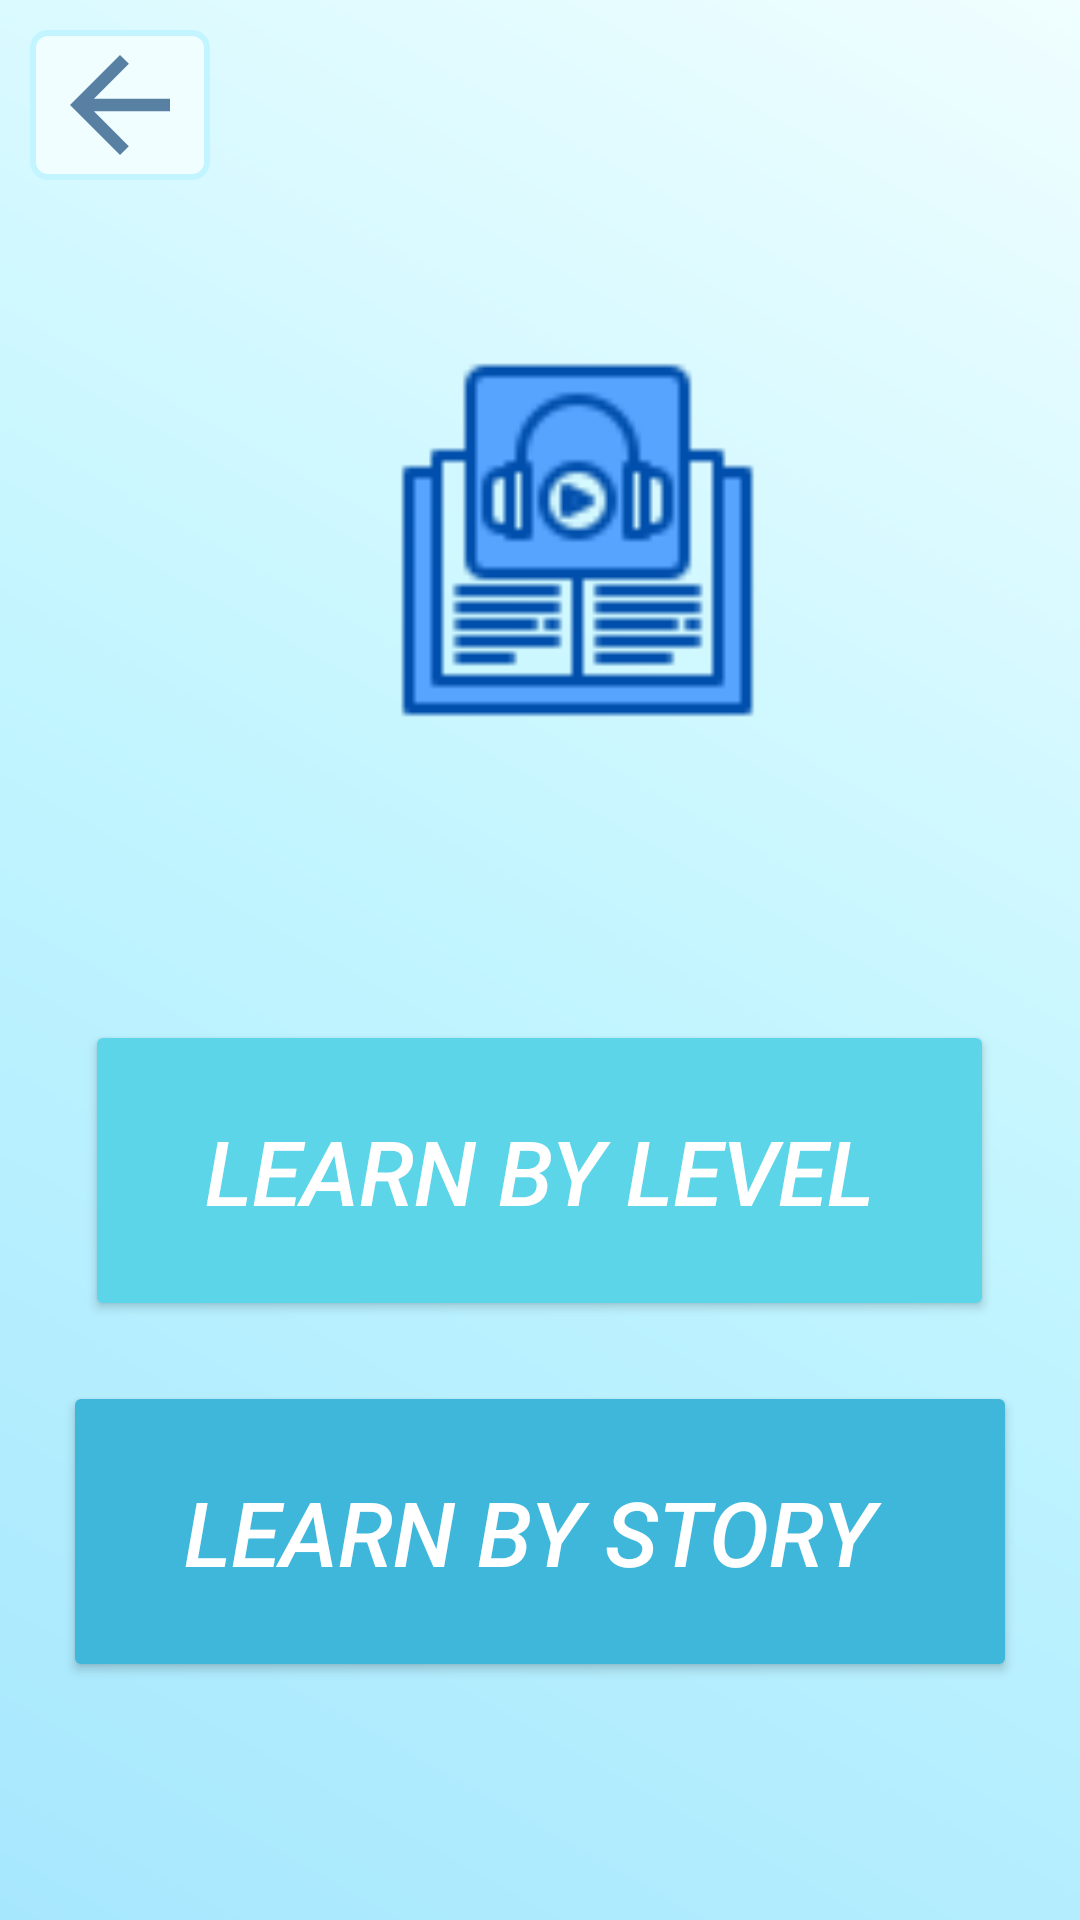

Icons on this 1080 x 1920 Android screen, each with the point to tap as (x,y):
audiobook: (577,540)
back: (120,105)
